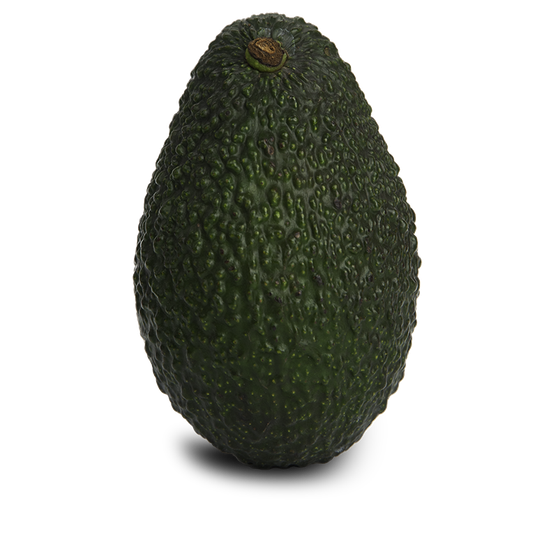avocado: (117, 11, 425, 471)
